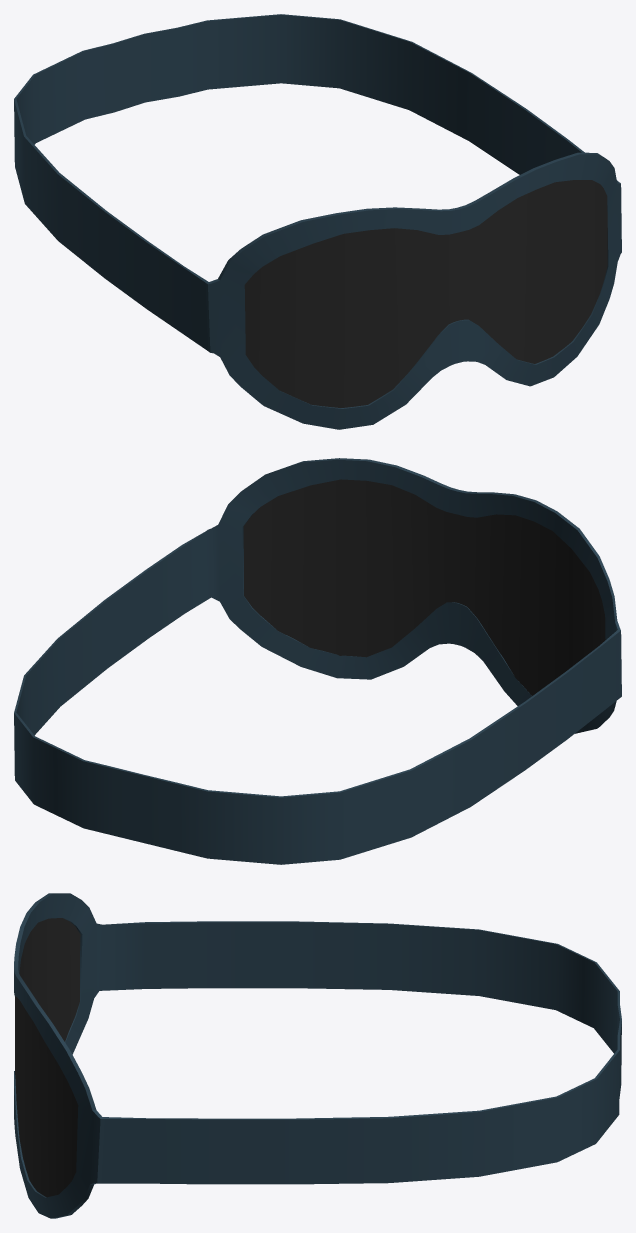
Rendered from Ski Goggles.glb.
3 renders of one model, top to bottom at view 1: azimuth 30°, elevation 25°; view 2: azimuth 150°, elevation 25°; view 3: azimuth 270°, elevation 25°, orthographic. The views are drawn at different scales.
Visible parts, largest first — view 1: Ski Goggles; view 2: Ski Goggles; view 3: Ski Goggles.
Boxes of the visible parts, x1=… form: Ski Goggles: x1=14, y1=14, x2=621, y2=429; Ski Goggles: x1=14, y1=458, x2=621, y2=864; Ski Goggles: x1=14, y1=893, x2=621, y2=1218.
Size of the model in its own units: 2.03 by 1.01 by 2.63.
